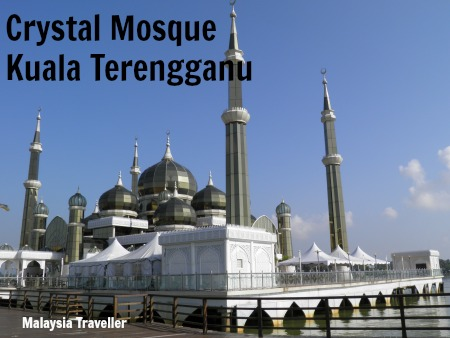Mosque: (17, 18, 357, 282)
